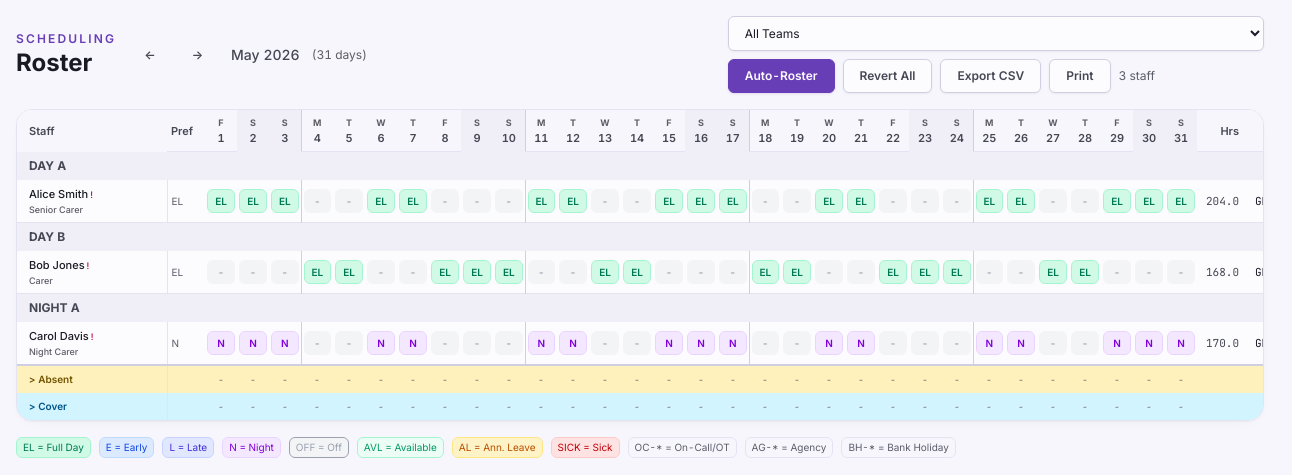
Scenario: RotationGrid › navigating to next month updates the month label
What coordinates should you click on to do the following:
click the button named "Next month"
I would click on:
 (197, 54)
Its box is x1=176 y1=38 x2=219 y2=70.
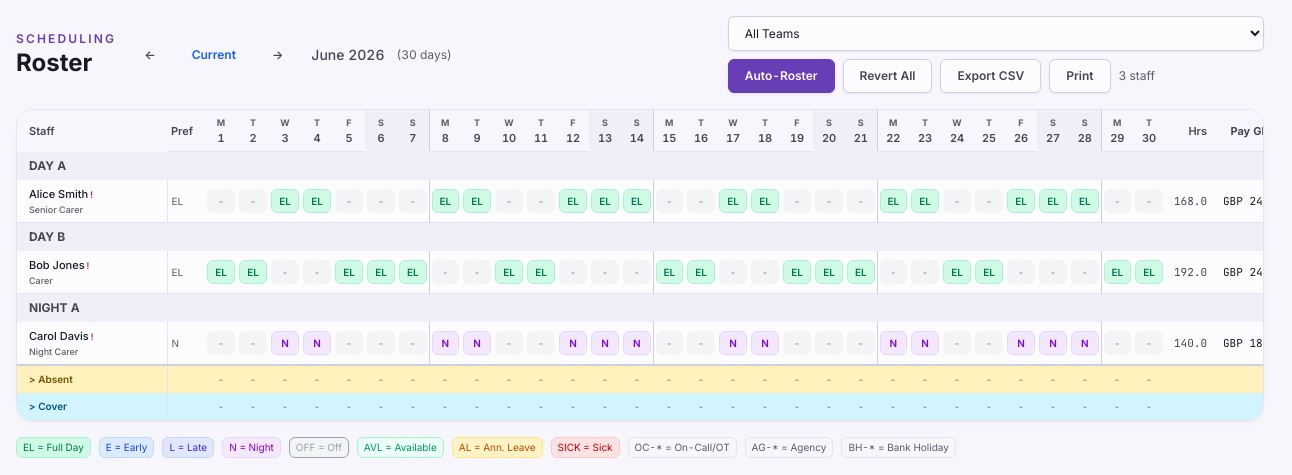
Check: the button with aria-label "Current month" is shown, box x1=176 y1=38 x2=252 y2=70
